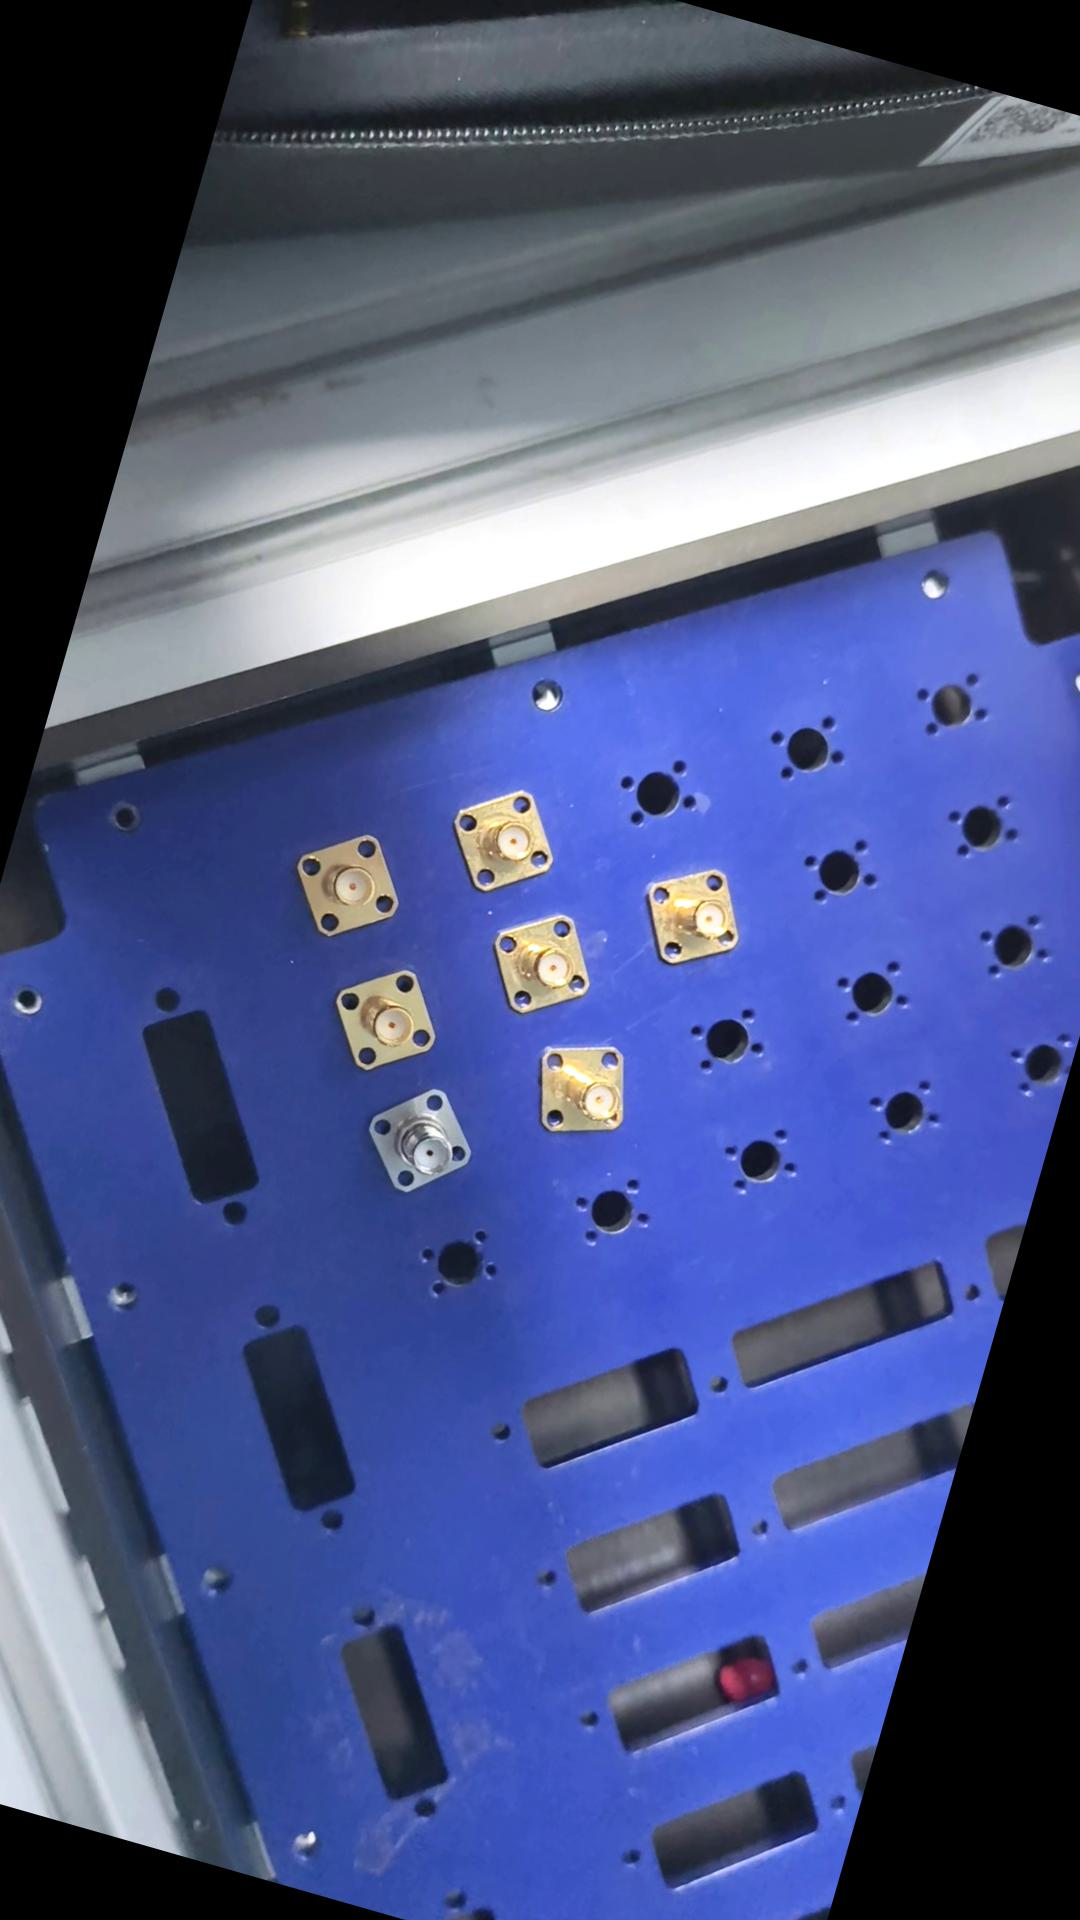SMA: (352, 1065, 493, 1213), (318, 947, 460, 1087), (440, 766, 575, 906), (282, 818, 415, 949), (520, 1033, 658, 1156), (479, 899, 608, 1029), (636, 847, 758, 975)
